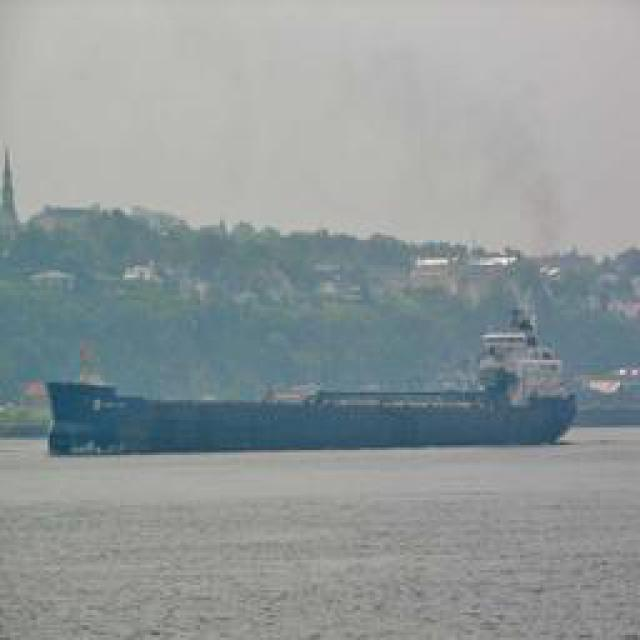Ship: (51, 381, 584, 449)
